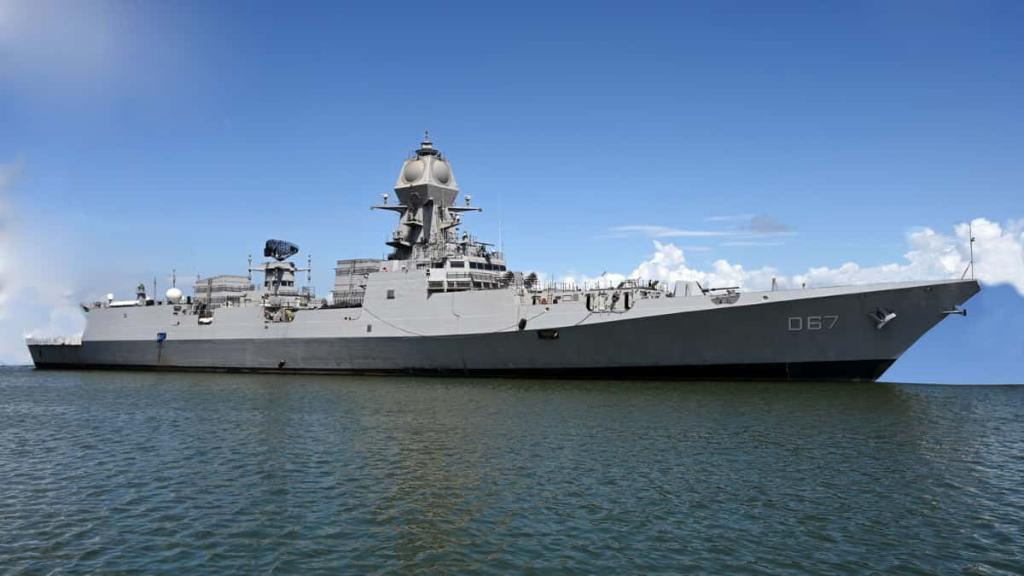Warship: (20, 124, 982, 398)
